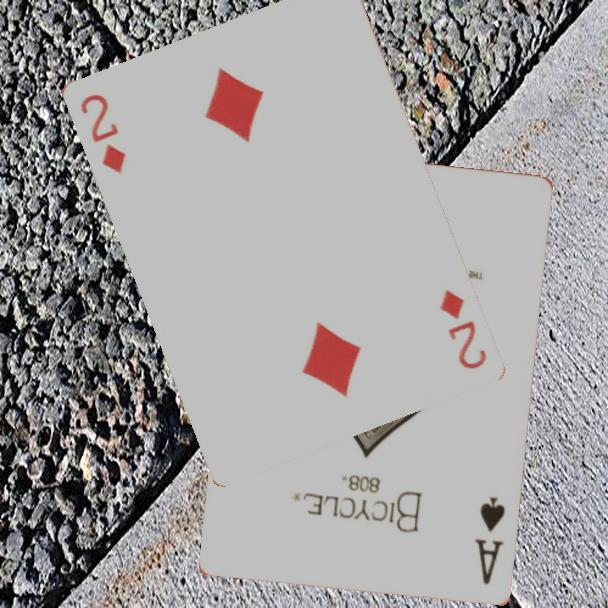d02: (435, 286, 489, 372), (76, 90, 128, 176)
s01: (472, 493, 509, 589)
